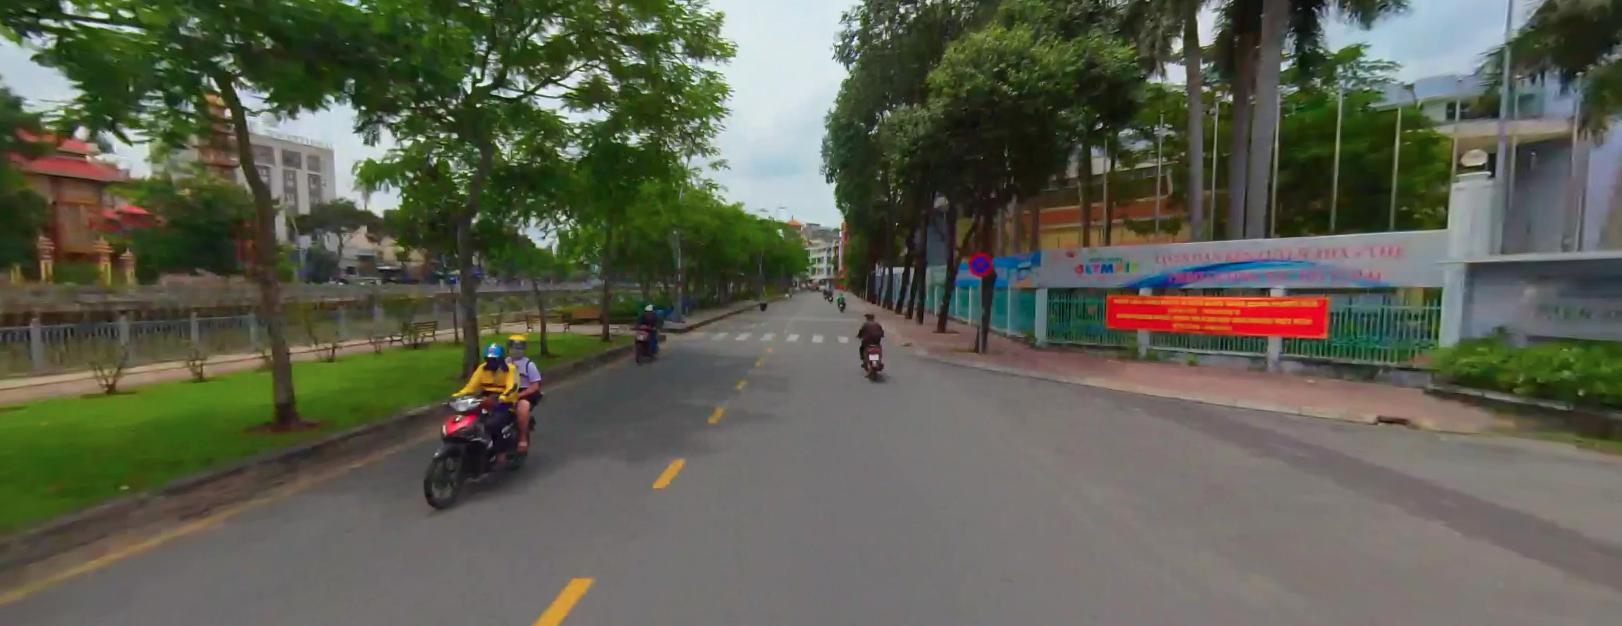Cam dung va do: (968, 250, 993, 275), (969, 251, 992, 274)
